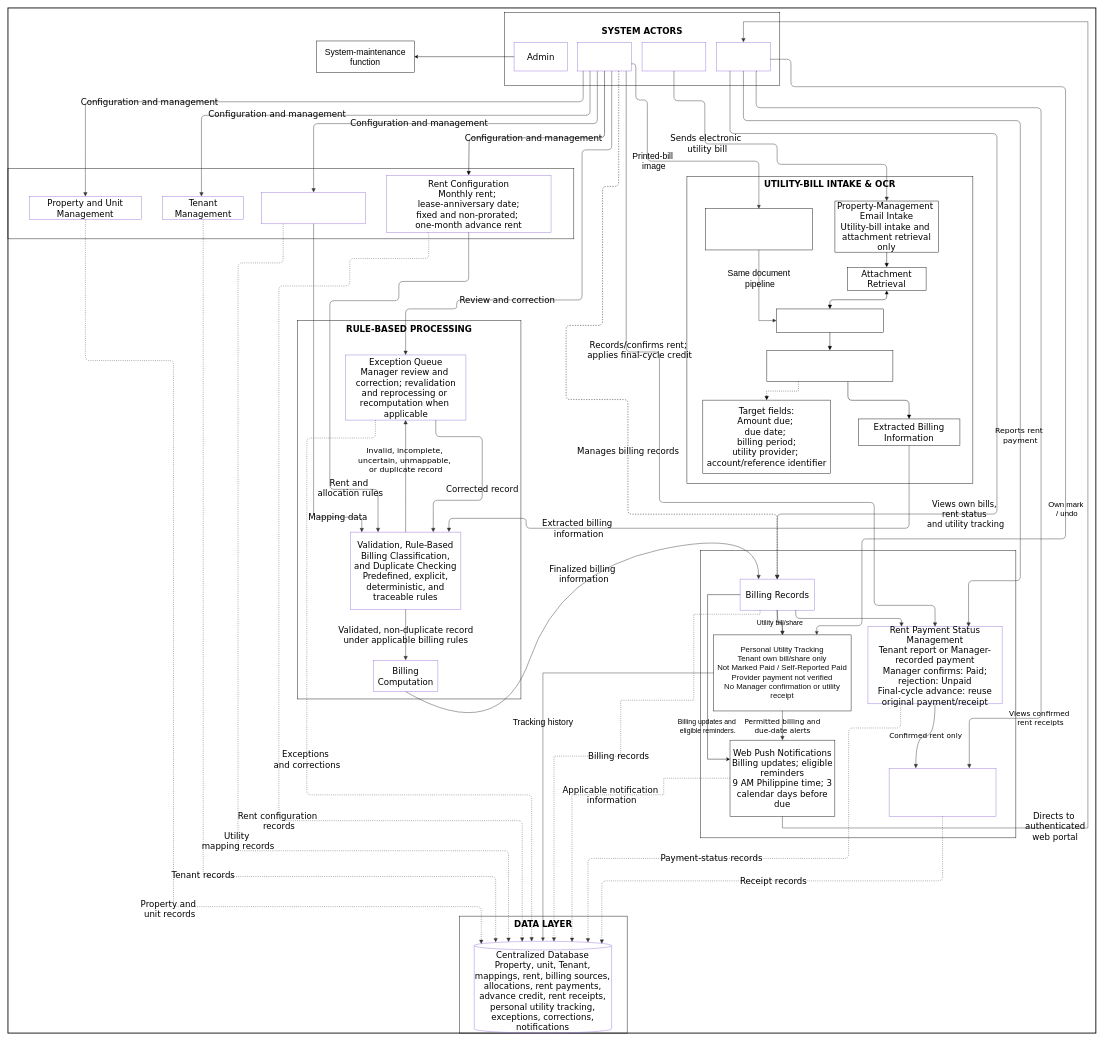
Image size: 1103x1041. Some labels were removed from this diagram. The shapes that lost their labels are listed below. From the top down, each one's box as (x1, y1, x2, y2) in pixels, then its label:
(577, 42, 631, 71): Manager
(642, 42, 706, 71): Utility Provider
(716, 42, 770, 71): Tenant
(8, 168, 574, 239): PROPERTY & CONFIGURATION
(261, 192, 366, 224): Utility Provider and Account/Reference Mapping
(705, 208, 812, 250): Optional Manager Upload Clear photo/scan of printed bill
(776, 309, 883, 332): Supported Document Processing
(766, 350, 893, 382): OCR Processing Extracts available billing information
(700, 550, 1016, 838): BILLING, RENT PAYMENT, UTILITY TRACKING & NOTIFICATION
(889, 768, 996, 816): Digital Rent Receipt Only for Manager-confirmed rent payments
